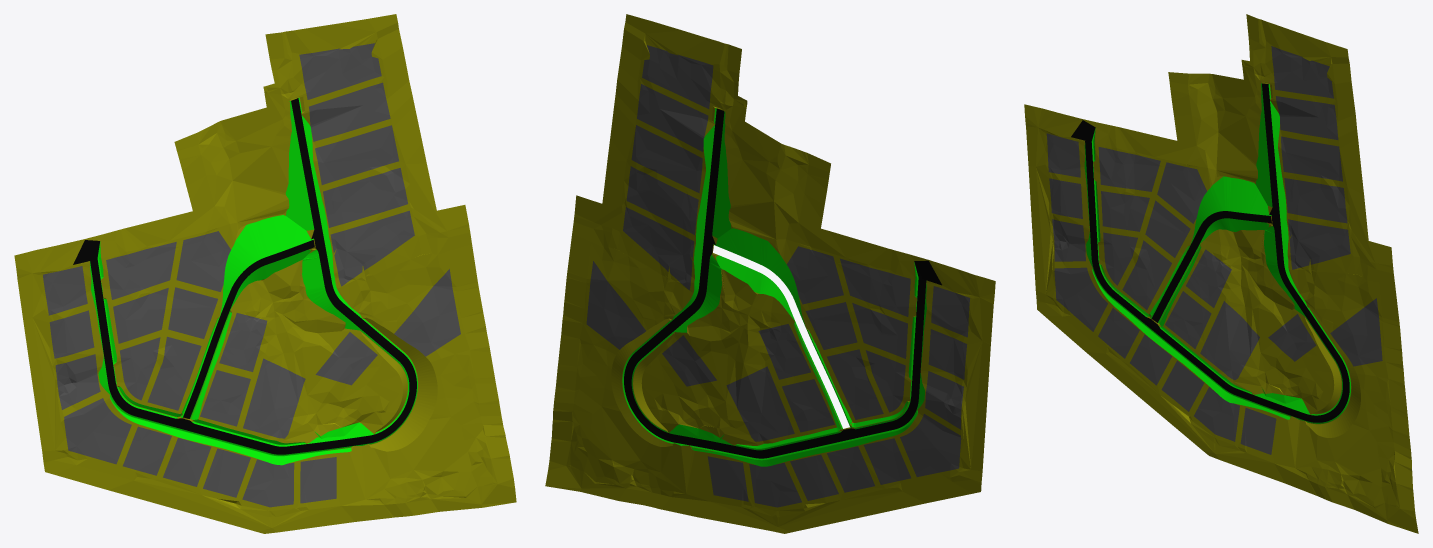
The model's file is olympus-new.gltf.
3 renders of one model, left to right at view 1: azimuth 30°, elevation 25°; view 2: azimuth 150°, elevation 25°; view 3: azimuth 330°, elevation 25°, orthographic. The views are drawn at different scales.
Parts seen in each view (by area): view 1: LandXML Surface :proposed design surface; view 2: LandXML Surface :proposed design surface; view 3: LandXML Surface :proposed design surface.
Part boxes in pixels (x1,y1,x2,y2): LandXML Surface :proposed design surface: (14,14,516,533); LandXML Surface :proposed design surface: (545,14,995,533); LandXML Surface :proposed design surface: (1024,14,1418,533).
Bounding box in the file's own units: 688 × 700 × 87.29.
